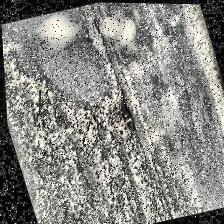pothole: (61, 85, 143, 158)
